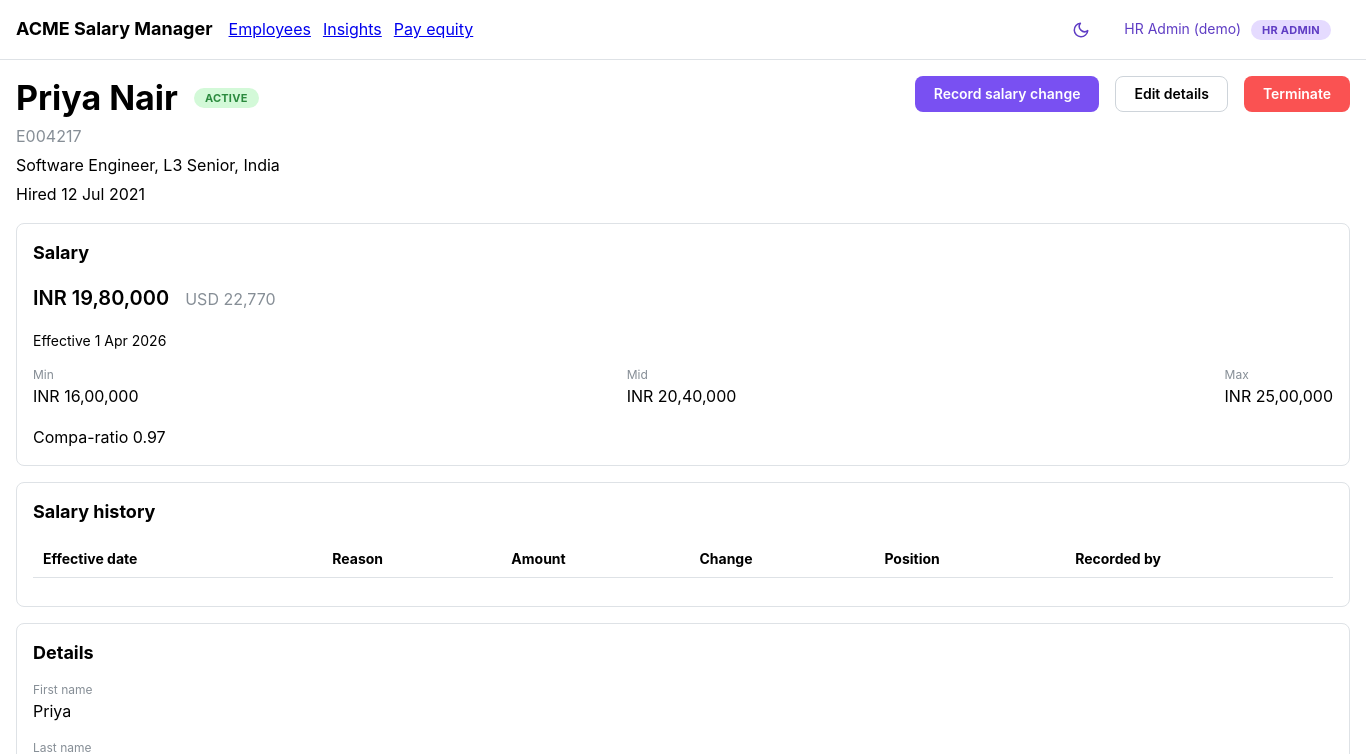
terminate modal (04 section 8.5 S-7) › shows TERMINATION_BEFORE_HIRE under the date and closes on EMPLOYEE_ALREADY_TERMINATED with a toast
Click the button "Terminate".
click(1297, 94)  # box [1244,76,1350,112]
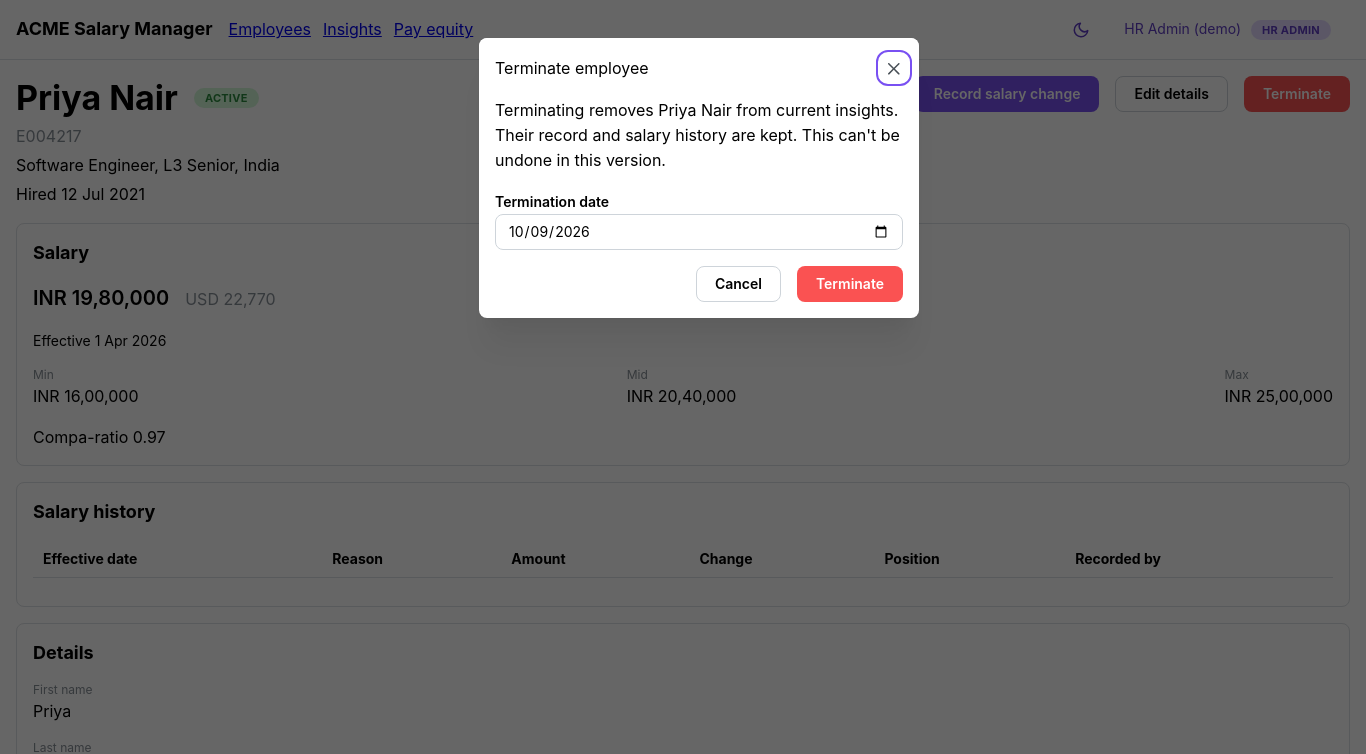
Type "2021-01-01" into the date field labelled "Termination date".
click(699, 232); type("2021-01-01")  # box [495,214,903,250]
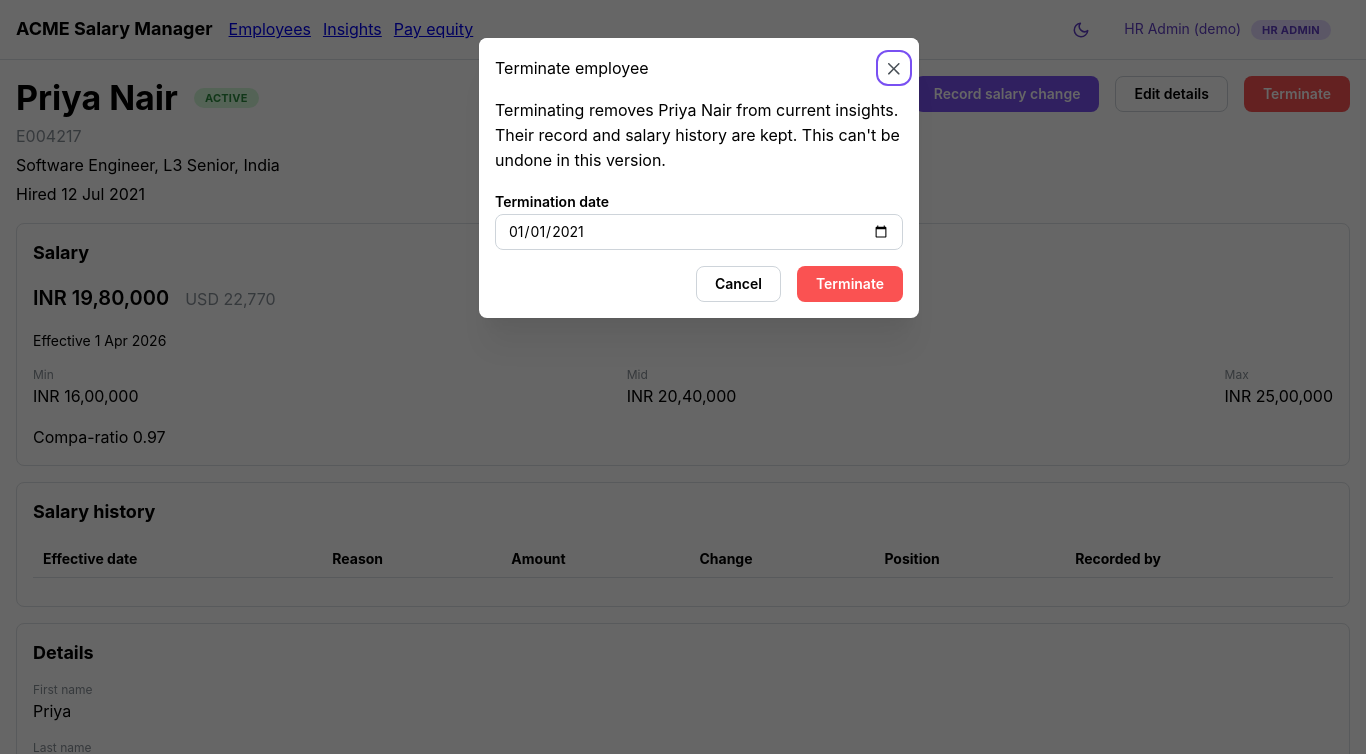
Click the button "Terminate".
click(850, 284)  # box [797,266,903,302]
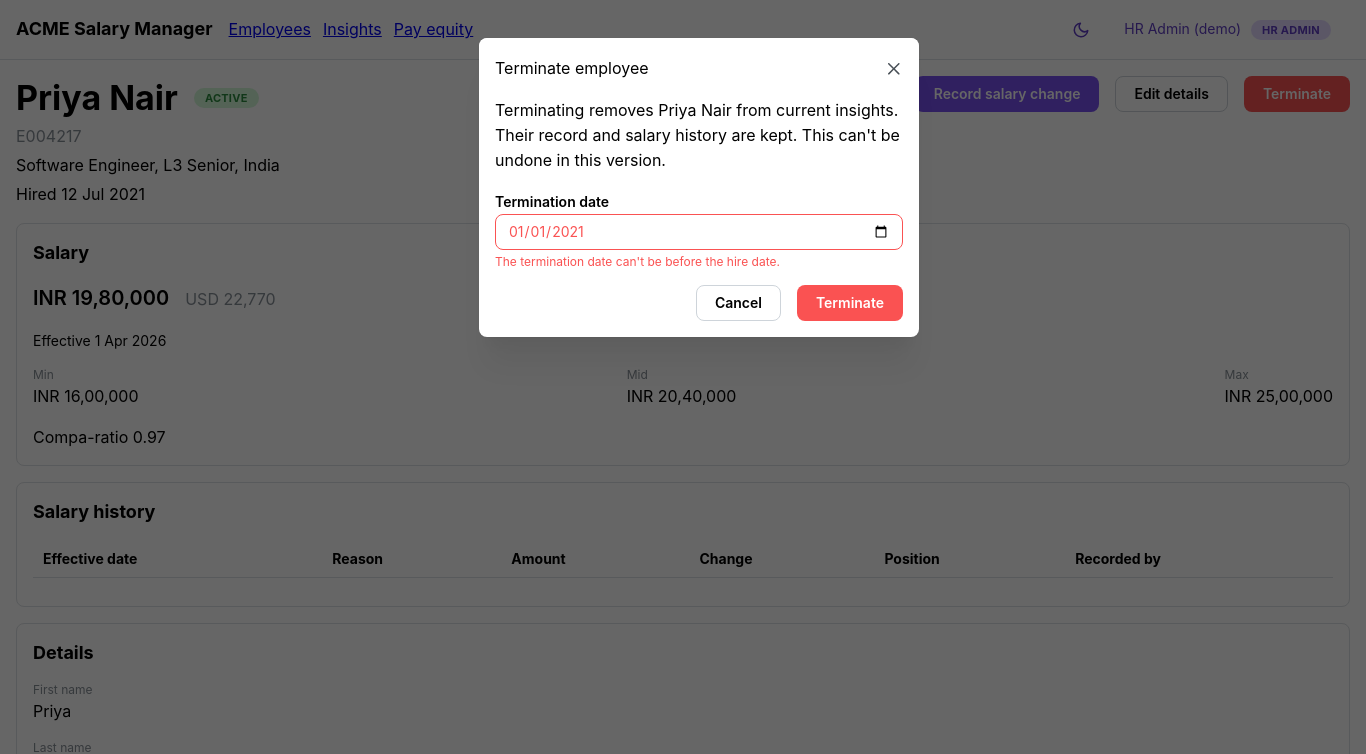
Now the text "The termination date can't be before the hire date." is shown, box [495,254,780,269]
Click the button "Terminate".
click(850, 303)  # box [797,285,903,321]
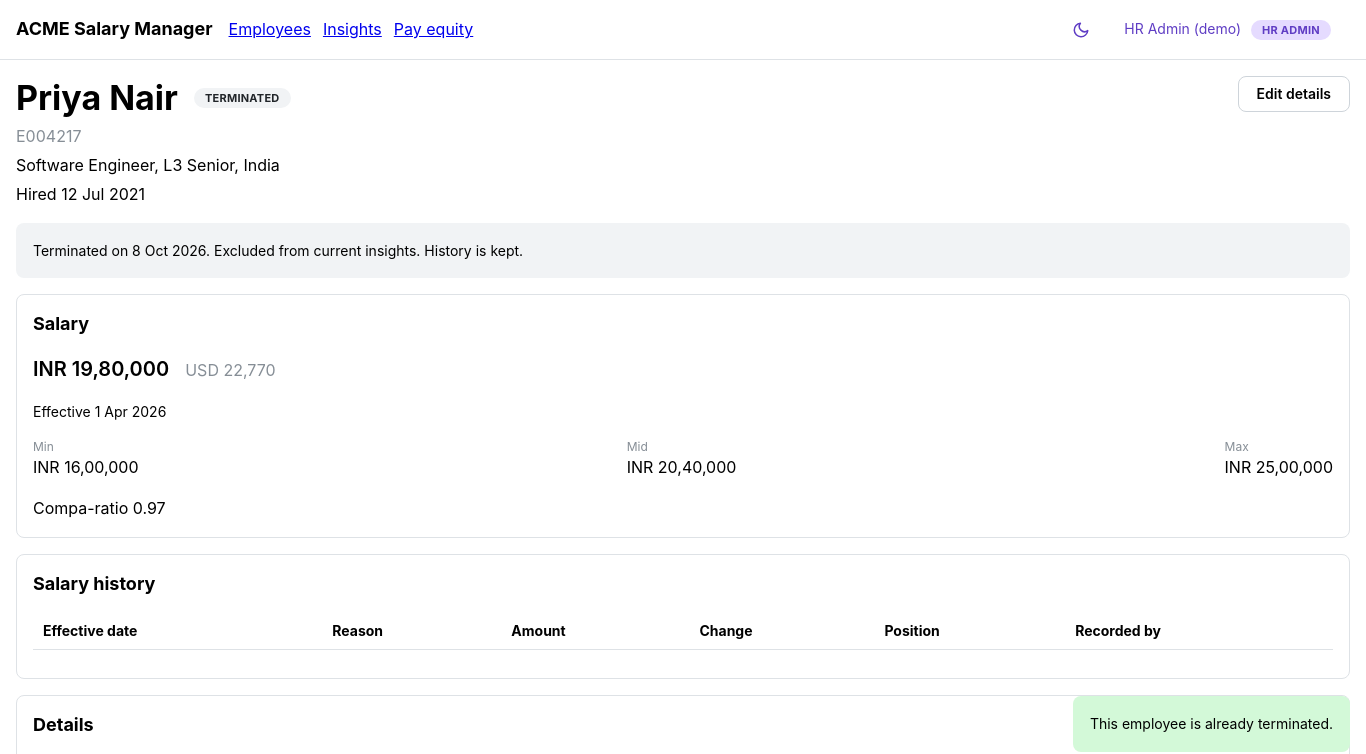
Now the text "This employee is already terminated." is shown, box [1090,713,1333,735]
Now the dialog is gone
Now the text "Terminated on 8 Oct 2026. Excluded from current insights. History is kept." is shown, box [33,242,523,259]
